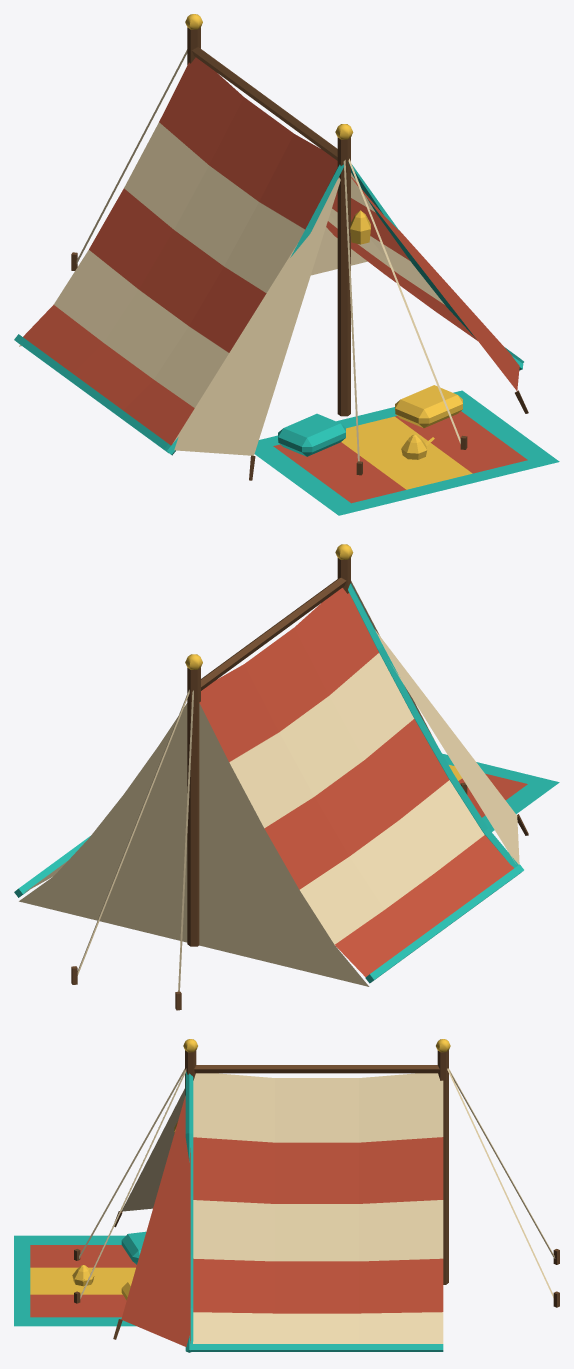
The model's file is bedouin_tent.glb.
3 views of the same model, one above another, from view 1: azimuth 30°, elevation 25°; view 2: azimuth 150°, elevation 25°; view 3: azimuth 270°, elevation 25° (orthographic). The views are drawn at different scales.
Parts seen in each view (by area): view 1: bedouin_tent; view 2: bedouin_tent; view 3: bedouin_tent.
Part boxes in pixels (x1,y1,x2,y2): bedouin_tent: [14, 14, 559, 515]; bedouin_tent: [14, 544, 559, 1010]; bedouin_tent: [14, 1039, 559, 1352].
Bounding box in the file's own units: 2.77 × 2.15 × 4.33.
